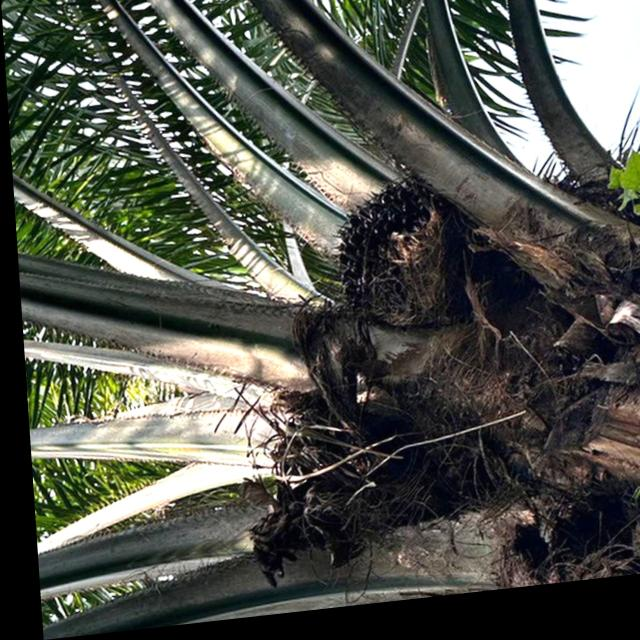almost: (318, 169, 449, 348)
